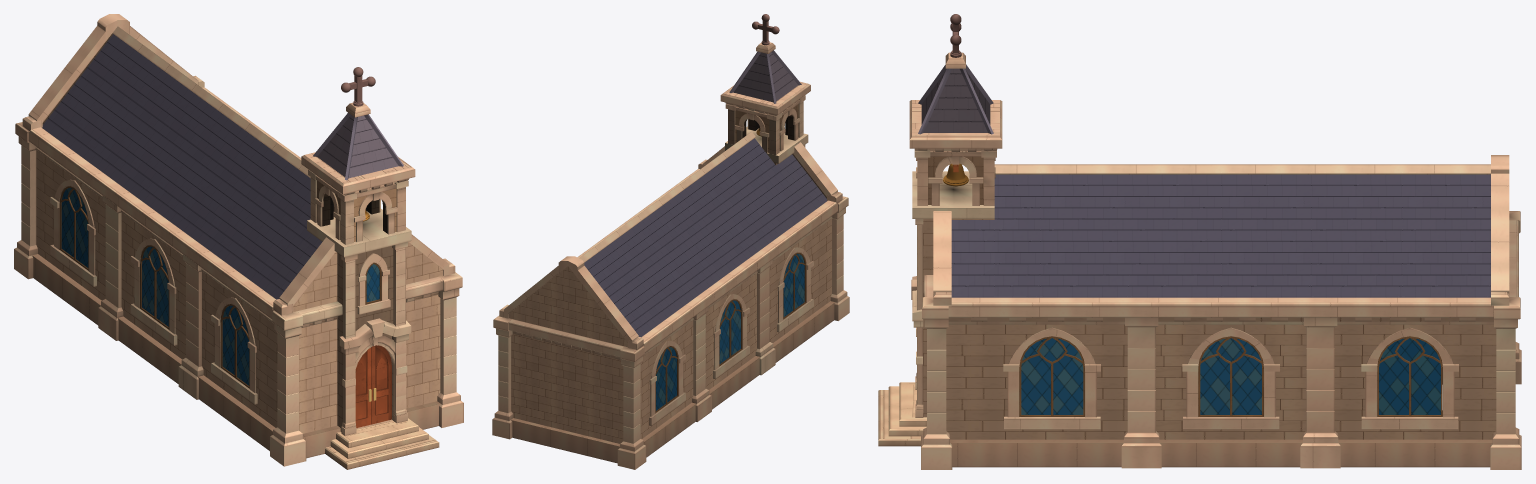
File: houdini_stone_church.glb
3 views of the same model, side by side, from view 1: azimuth 30°, elevation 25°; view 2: azimuth 150°, elevation 25°; view 3: azimuth 270°, elevation 25° (orthographic). The views are drawn at different scales.
Visible parts, largest first — view 1: LOD0; view 2: LOD0; view 3: LOD0.
Boxes of the visible parts, left/top/right/bottom form: LOD0: left=14, top=14, right=463, bottom=469; LOD0: left=492, top=14, right=849, bottom=469; LOD0: left=878, top=14, right=1521, bottom=469.
Size of what is drawn, in the model's own units: 7.74 by 15.05 by 21.57.
6 materials, 6 textured.
